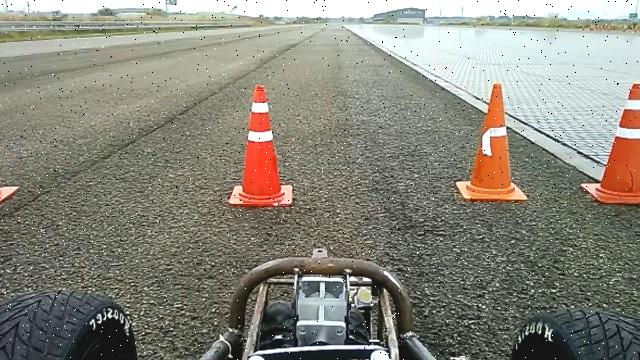red cone: (456, 81, 528, 203), (228, 84, 294, 207), (580, 82, 640, 206)
